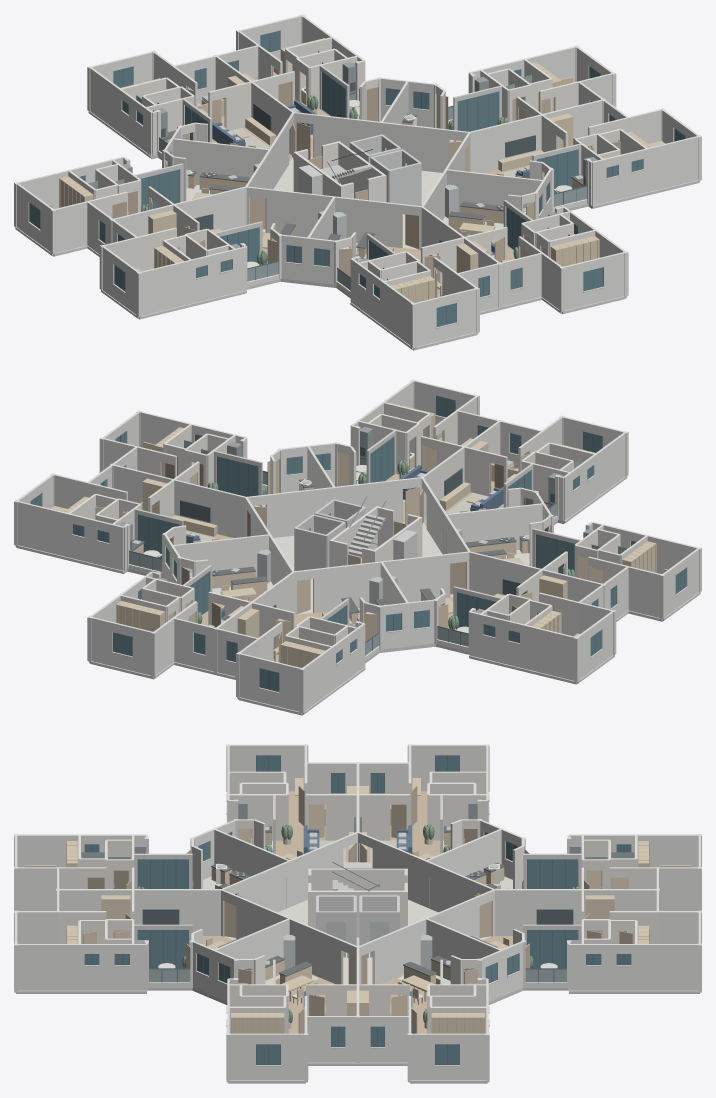
File: Grupo_12_Pavimento_8_Apartamentos.glb
3 renders of one model, top to bottom at view 1: azimuth 30°, elevation 25°; view 2: azimuth 150°, elevation 25°; view 3: azimuth 270°, elevation 25°, orthographic. The views are drawn at different scales.
Visible parts, largest first — view 1: Pavimento_01/Apartamento_0105/Arquitetura/Fachadas__Fachada_, Pavimento_01/Apartamento_0104/Arquitetura/Fachadas__Fachada_, Pavimento_01/Apartamento_0102/Arquitetura/Fachadas__Fachada_, Pavimento_01/Apartamento_0107/Arquitetura/Fachadas__Fachada_, Pavimento_01/Apartamento_0103/Arquitetura/Fachadas__Fachada_, Pavimento_01/Apartamento_0101/Arquitetura/Fachadas__Fachada_, Pavimento_01/Apartamento_0106/Arquitetura/Fachadas__Fachada_, Pavimento_01/Apartamento_0108/Arquitetura/Fachadas__Fachada_, Pavimento_01/Apartamento_0107/Arquitetura/Paredes_internas__, Pavimento_01/Apartamento_0108/Arquitetura/Paredes_internas__, Pavimento_01/Apartamento_0101/Arquitetura/Compartilhadas/Eix, Pavimento_01/Apartamento_0101/Arquitetura/Paredes_internas__ (+39 smaller); view 2: Pavimento_01/Apartamento_0106/Arquitetura/Fachadas__Fachada_, Pavimento_01/Apartamento_0107/Arquitetura/Fachadas__Fachada_, Pavimento_01/Apartamento_0101/Arquitetura/Fachadas__Fachada_, Pavimento_01/Apartamento_0104/Arquitetura/Fachadas__Fachada_, Pavimento_01/Apartamento_0108/Arquitetura/Fachadas__Fachada_, Pavimento_01/Apartamento_0102/Arquitetura/Fachadas__Fachada_, Pavimento_01/Apartamento_0105/Arquitetura/Fachadas__Fachada_, Pavimento_01/Apartamento_0103/Arquitetura/Fachadas__Fachada_, Pavimento_01/Apartamento_0104/Arquitetura/Paredes_internas__, Pavimento_01/Apartamento_0103/Arquitetura/Paredes_internas__, Pavimento_01/Apartamento_0101/Arquitetura/Compartilhadas/Eix, Pavimento_01/Apartamento_0102/Arquitetura/Paredes_internas__ (+40 smaller); view 3: Pavimento_01/Apartamento_0103/Arquitetura/Fachadas__Fachada_, Pavimento_01/Apartamento_0108/Arquitetura/Fachadas__Fachada_, Pavimento_01/Apartamento_0101/Arquitetura/Fachadas__Fachada_, Pavimento_01/Apartamento_0102/Arquitetura/Fachadas__Fachada_, Pavimento_01/Apartamento_0107/Arquitetura/Fachadas__Fachada_, Pavimento_01/Apartamento_0104/Arquitetura/Fachadas__Fachada_, Pavimento_01/Apartamento_0106/Arquitetura/Fachadas__Fachada_, Pavimento_01/Apartamento_0105/Arquitetura/Fachadas__Fachada_, Pavimento_01/Apartamento_0105/Arquitetura/Paredes_internas__, Pavimento_01/Apartamento_0106/Arquitetura/Paredes_internas__, Pavimento_01/Apartamento_0103/Arquitetura/Compartilhadas/Eix, Pavimento_01/Apartamento_0107/Arquitetura/Compartilhadas/Eix (+48 smaller).
Part boxes in pixels (bbox=[...]): Pavimento_01/Apartamento_0105/Arquitetura/Fachadas__Fachada_: bbox=[102, 186, 334, 315]; Pavimento_01/Apartamento_0104/Arquitetura/Fachadas__Fachada_: bbox=[308, 196, 499, 346]; Pavimento_01/Apartamento_0102/Arquitetura/Fachadas__Fachada_: bbox=[445, 99, 699, 216]; Pavimento_01/Apartamento_0107/Arquitetura/Fachadas__Fachada_: bbox=[89, 51, 294, 189]; Pavimento_01/Apartamento_0103/Arquitetura/Fachadas__Fachada_: bbox=[421, 169, 626, 310]; Pavimento_01/Apartamento_0101/Arquitetura/Fachadas__Fachada_: bbox=[381, 46, 613, 172]; Pavimento_01/Apartamento_0106/Arquitetura/Fachadas__Fachada_: bbox=[16, 138, 270, 253]; Pavimento_01/Apartamento_0108/Arquitetura/Fachadas__Fachada_: bbox=[216, 15, 407, 157]; Pavimento_01/Apartamento_0107/Arquitetura/Paredes_internas__: bbox=[120, 66, 251, 141]; Pavimento_01/Apartamento_0108/Arquitetura/Paredes_internas__: bbox=[252, 37, 365, 119]; Pavimento_01/Apartamento_0101/Arquitetura/Compartilhadas/Eix: bbox=[470, 99, 603, 172]; Pavimento_01/Apartamento_0101/Arquitetura/Paredes_internas__: bbox=[440, 59, 578, 128]; Pavimento_01/Apartamento_0106/Arquitetura/Fachadas__Fachada_: bbox=[381, 551, 613, 680]; Pavimento_01/Apartamento_0107/Arquitetura/Fachadas__Fachada_: bbox=[216, 561, 407, 711]; Pavimento_01/Apartamento_0101/Arquitetura/Fachadas__Fachada_: bbox=[16, 464, 270, 581]; Pavimento_01/Apartamento_0104/Arquitetura/Fachadas__Fachada_: bbox=[421, 416, 626, 554]; Pavimento_01/Apartamento_0108/Arquitetura/Fachadas__Fachada_: bbox=[89, 534, 294, 675]; Pavimento_01/Apartamento_0102/Arquitetura/Fachadas__Fachada_: bbox=[102, 411, 334, 537]; Pavimento_01/Apartamento_0105/Arquitetura/Fachadas__Fachada_: bbox=[445, 503, 699, 618]; Pavimento_01/Apartamento_0103/Arquitetura/Fachadas__Fachada_: bbox=[308, 380, 499, 522]; Pavimento_01/Apartamento_0104/Arquitetura/Paredes_internas__: bbox=[464, 431, 595, 506]; Pavimento_01/Apartamento_0103/Arquitetura/Paredes_internas__: bbox=[350, 402, 463, 484]; Pavimento_01/Apartamento_0101/Arquitetura/Compartilhadas/Eix: bbox=[112, 464, 246, 537]; Pavimento_01/Apartamento_0102/Arquitetura/Paredes_internas__: bbox=[137, 424, 275, 493]; Pavimento_01/Apartamento_0103/Arquitetura/Fachadas__Fachada_: bbox=[15, 889, 290, 995]; Pavimento_01/Apartamento_0108/Arquitetura/Fachadas__Fachada_: bbox=[425, 889, 700, 995]; Pavimento_01/Apartamento_0101/Arquitetura/Fachadas__Fachada_: bbox=[357, 918, 502, 1080]; Pavimento_01/Apartamento_0102/Arquitetura/Fachadas__Fachada_: bbox=[213, 918, 357, 1080]; Pavimento_01/Apartamento_0107/Arquitetura/Fachadas__Fachada_: bbox=[425, 828, 700, 912]; Pavimento_01/Apartamento_0104/Arquitetura/Fachadas__Fachada_: bbox=[15, 828, 290, 912]; Pavimento_01/Apartamento_0106/Arquitetura/Fachadas__Fachada_: bbox=[357, 744, 501, 906]; Pavimento_01/Apartamento_0105/Arquitetura/Fachadas__Fachada_: bbox=[214, 744, 358, 906]; Pavimento_01/Apartamento_0105/Arquitetura/Paredes_internas__: bbox=[228, 763, 357, 849]; Pavimento_01/Apartamento_0106/Arquitetura/Paredes_internas__: bbox=[358, 763, 487, 849]; Pavimento_01/Apartamento_0103/Arquitetura/Compartilhadas/Eix: bbox=[59, 889, 220, 935]; Pavimento_01/Apartamento_0107/Arquitetura/Compartilhadas/Eix: bbox=[495, 889, 656, 935].
Bounding box in the file's own units: 36.53 × 4.07 × 36.53.
